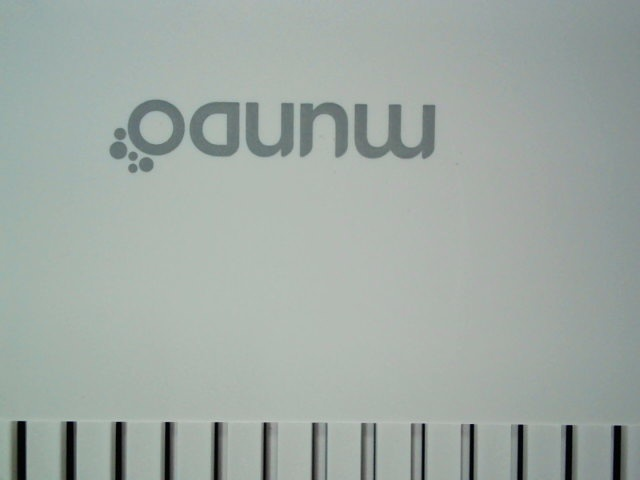BI_MUNDO: (84, 78, 448, 177)
